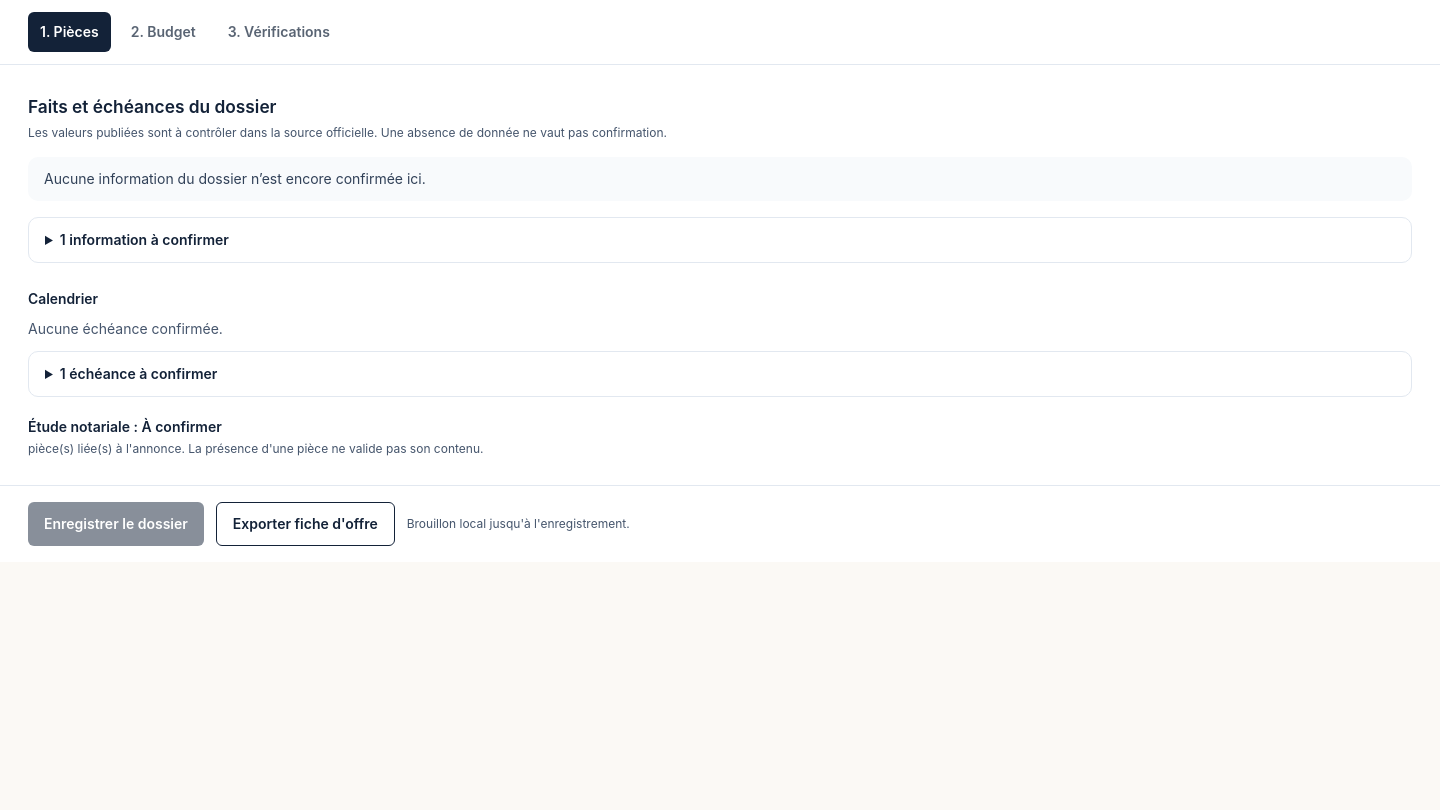
Scenario: professional pilot workspace › enchère plafond de « Mon dossier » (une seule porte) › dit de suivre la vente quand elle n'est pas dans les favoris
Click the button "2. Budget" at (163, 32), box [119,12,208,52]
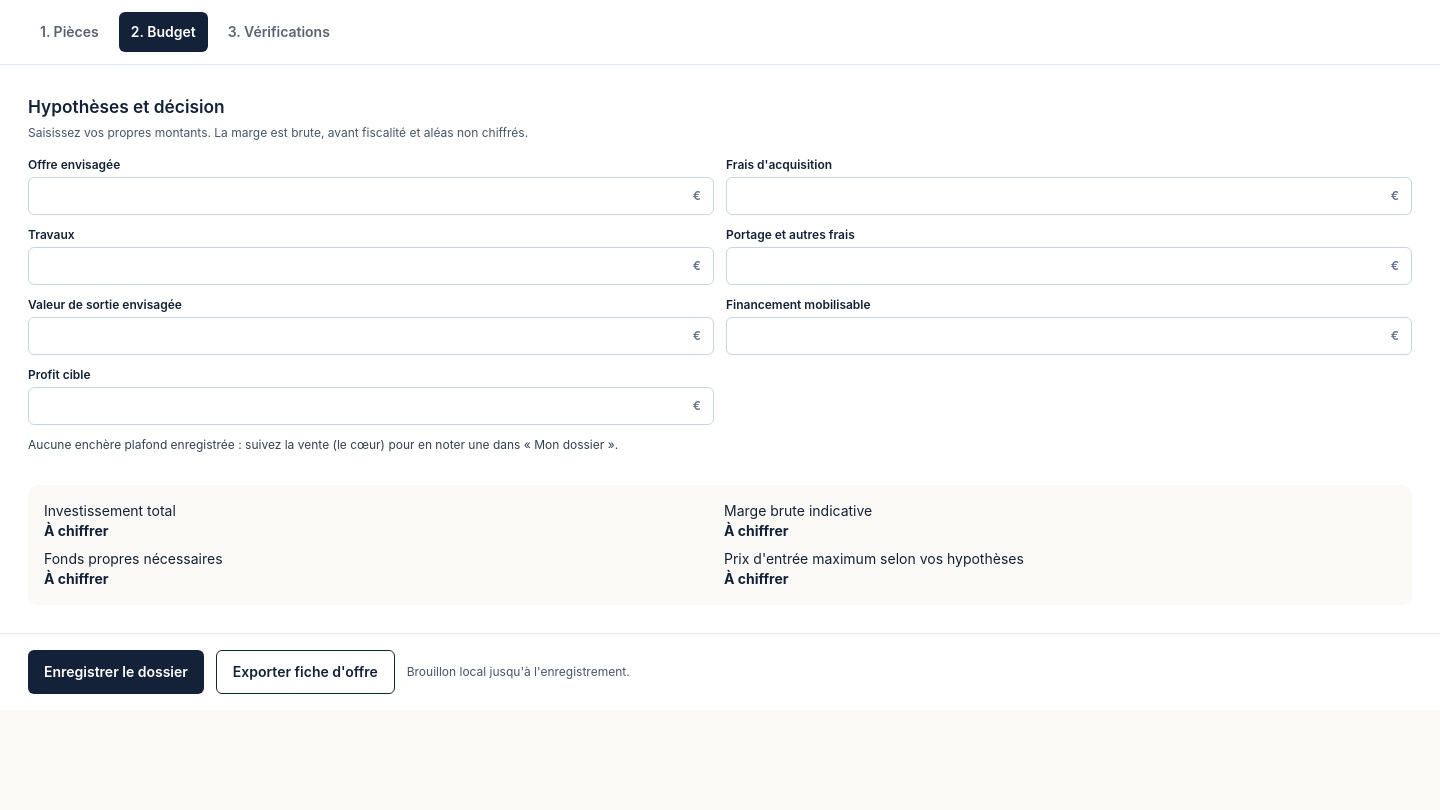
Check: the element with test id "saved-ceiling-line" shows "suivez la vente", box [28,437,618,452]
Check: the number field labelled "Offre envisagée" is empty, box [29,178,693,214]
